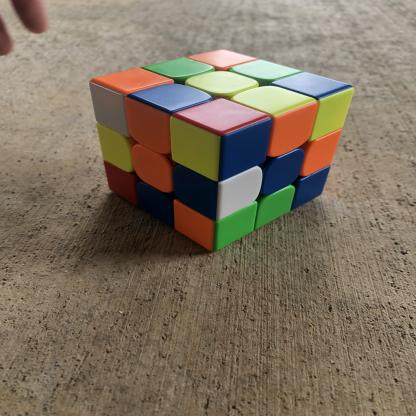UnsolvedCube: (80, 42, 368, 252)
